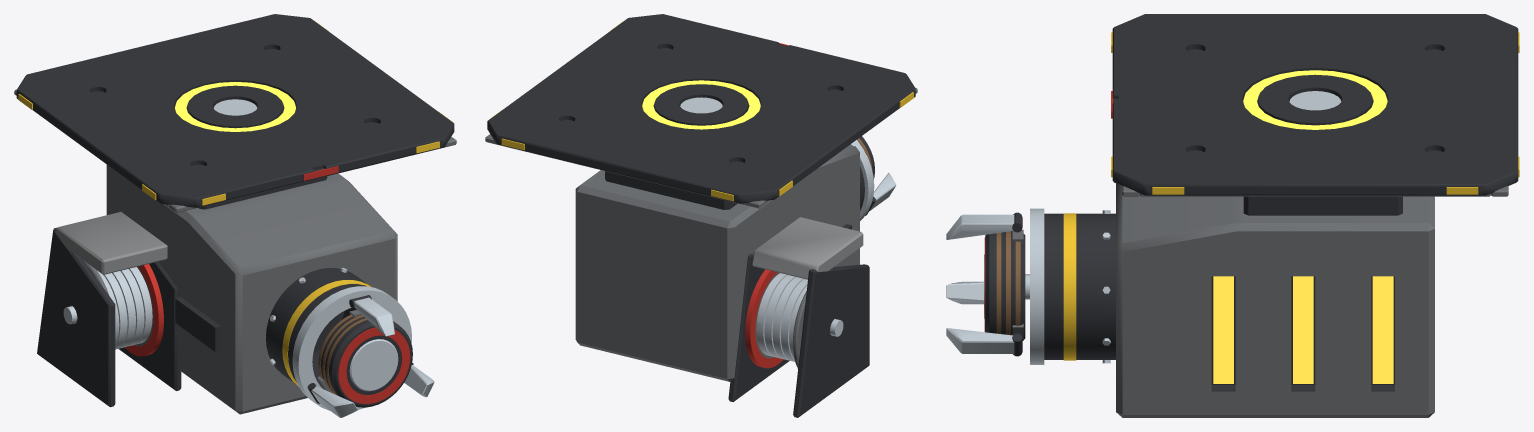
The model's file is R4M_MagneticGrapple.glb.
3 renders of one model, left to right at view 1: azimuth 30°, elevation 25°; view 2: azimuth 150°, elevation 25°; view 3: azimuth 270°, elevation 25°, orthographic. The views are drawn at different scales.
Visible parts, largest first — view 1: R4M_MagneticGrapple_Housing, R4M_MagneticGrapple_Head, R4M_MagneticGrapple_Spool, R4M_MagneticGrapple_Claw_1, R4M_MagneticGrapple_Claw_2, R4M_MagneticGrapple_Claw_3; view 2: R4M_MagneticGrapple_Housing, R4M_MagneticGrapple_Spool, R4M_MagneticGrapple_Claw_2; view 3: R4M_MagneticGrapple_Housing, R4M_MagneticGrapple_Head, R4M_MagneticGrapple_Claw_3, R4M_MagneticGrapple_Claw_1, R4M_MagneticGrapple_Claw_2.
Boxes of the visible parts, box(x1,y1,x2,y2) form: R4M_MagneticGrapple_Housing: box(14, 14, 456, 414); R4M_MagneticGrapple_Head: box(317, 310, 412, 407); R4M_MagneticGrapple_Spool: box(63, 260, 163, 356); R4M_MagneticGrapple_Claw_1: box(349, 295, 394, 336); R4M_MagneticGrapple_Claw_2: box(307, 383, 357, 417); R4M_MagneticGrapple_Claw_3: box(404, 362, 434, 397); R4M_MagneticGrapple_Housing: box(485, 14, 917, 417); R4M_MagneticGrapple_Spool: box(745, 269, 843, 368); R4M_MagneticGrapple_Claw_2: box(865, 172, 896, 215); R4M_MagneticGrapple_Housing: box(1030, 14, 1519, 417); R4M_MagneticGrapple_Head: box(984, 229, 1029, 340); R4M_MagneticGrapple_Claw_3: box(946, 328, 1022, 356); R4M_MagneticGrapple_Claw_1: box(946, 212, 1022, 239); R4M_MagneticGrapple_Claw_2: box(946, 281, 983, 304).
Bounding box in the file's own units: 0.5223 × 0.41 × 0.7194.
